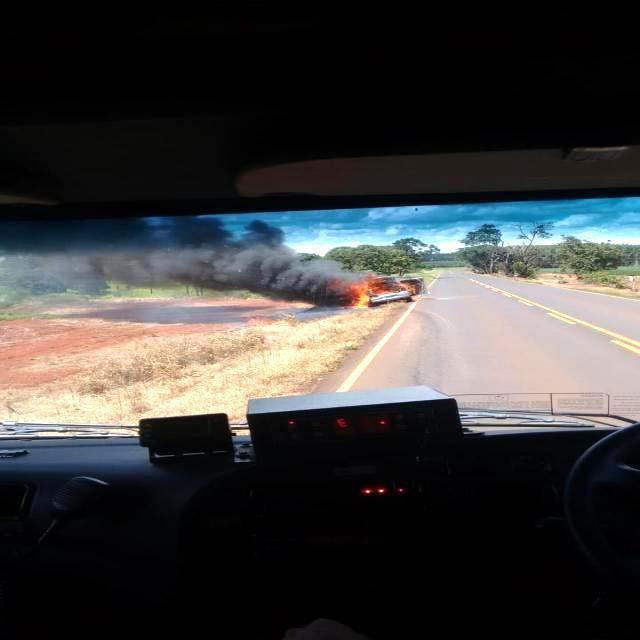Fire: (352, 272, 376, 313)
Smoke: (168, 228, 327, 296)
